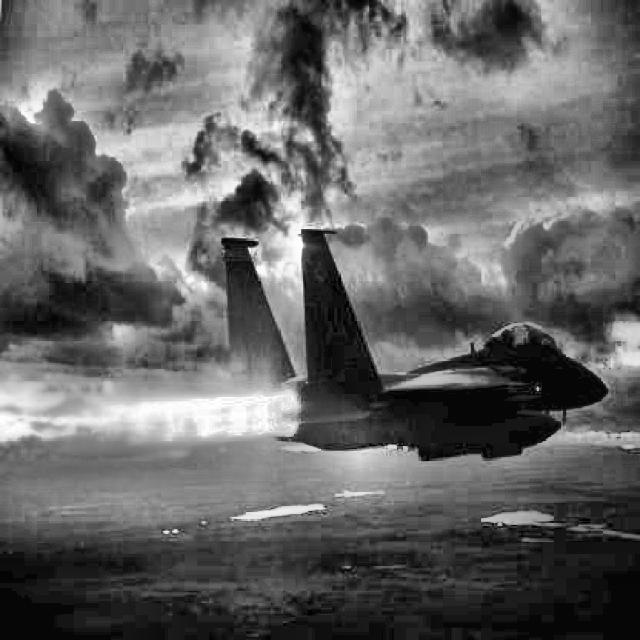F15: (220, 228, 611, 462)
